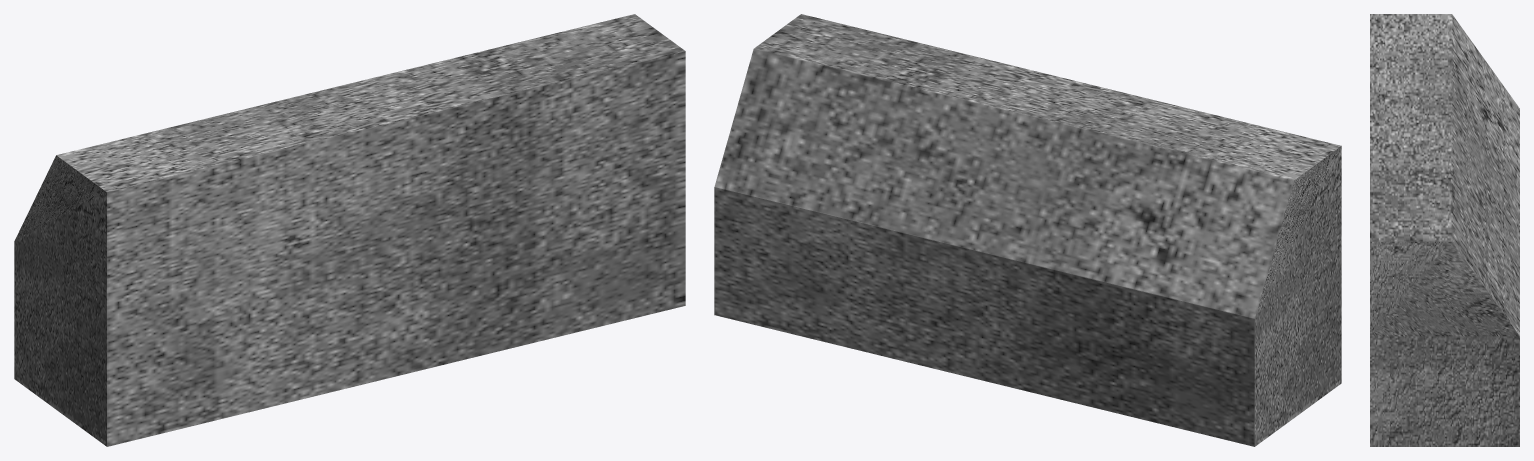
The model's file is border.glb.
3 renders of one model, left to right at view 1: azimuth 30°, elevation 25°; view 2: azimuth 150°, elevation 25°; view 3: azimuth 270°, elevation 25°, orthographic. The views are drawn at different scales.
Parts seen in each view (by area): view 1: Cube; view 2: Cube; view 3: Cube.
Boxes of the visible parts, x1,y1,x2,y2 form: Cube: (14, 14, 685, 446); Cube: (714, 14, 1341, 446); Cube: (1370, 14, 1519, 446).
Size of the model in its own units: 2 by 0.8405 by 0.5561.
1 material, 1 textured.
